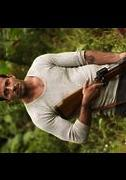gun: (52, 43, 126, 117)
